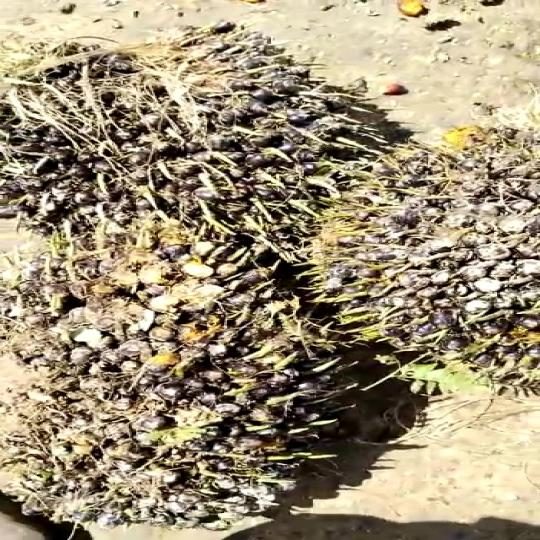mentah: (0, 243, 368, 533), (0, 23, 369, 271), (278, 129, 540, 373)
